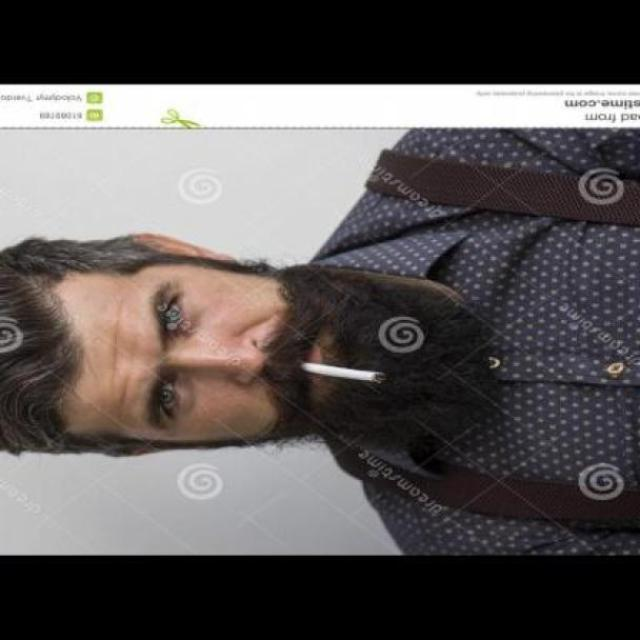rokok: (292, 350, 392, 396)
